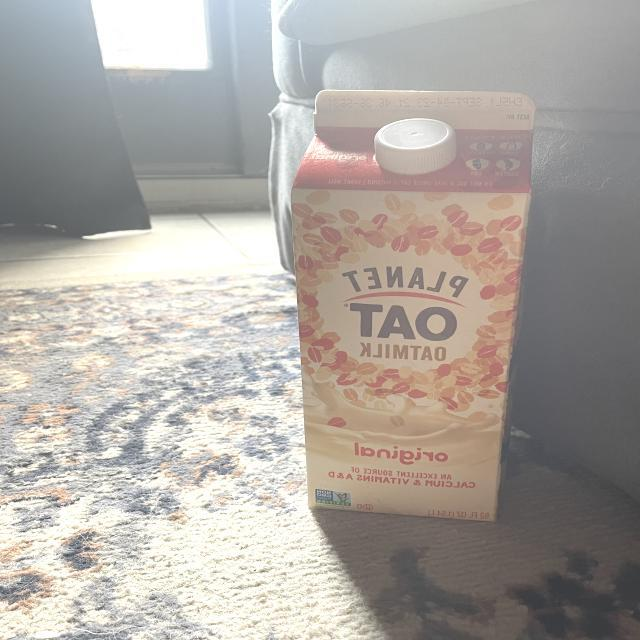Planet Oat Original: (262, 77, 557, 544)
